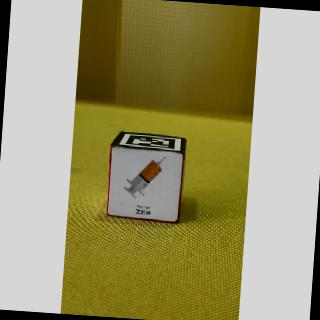Syringe: (106, 148, 186, 223)
